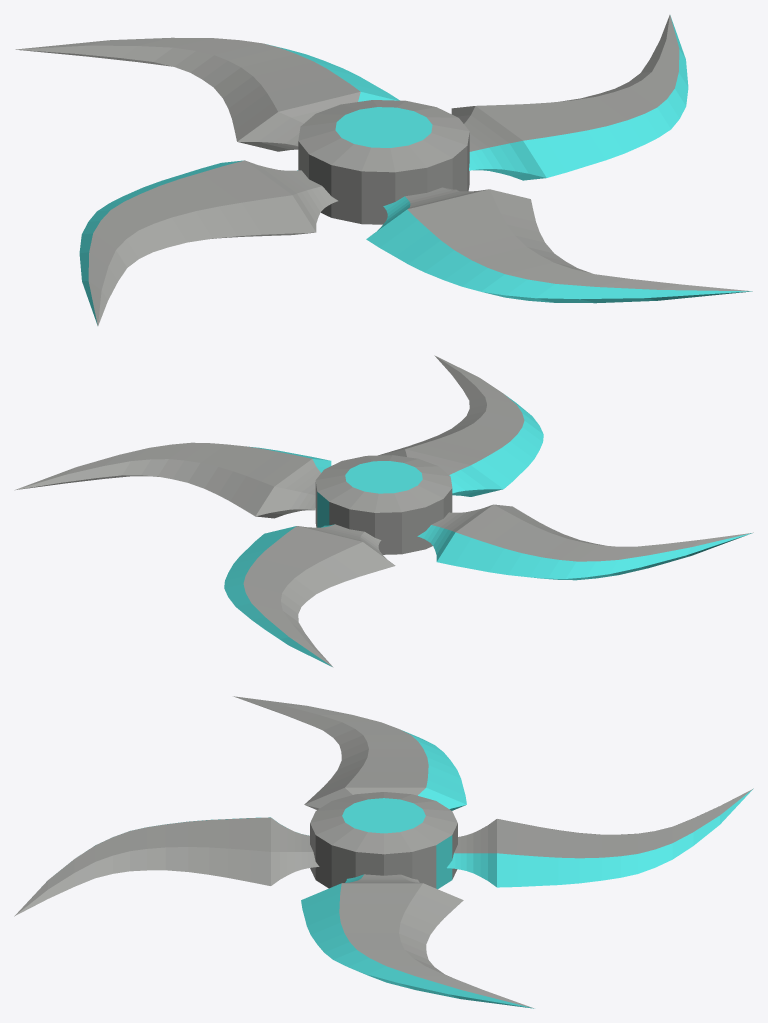
Rendered from Beyblade_Upgraded_Blade_Ice.fbx.
The picture shows the model from 3 angles, top to bottom: view 1: azimuth 30°, elevation 25°; view 2: azimuth 150°, elevation 25°; view 3: azimuth 270°, elevation 25°; orthographic projection. The views are drawn at different scales.
Parts seen in each view (by area): view 1: Circle.001; view 2: Circle.001; view 3: Circle.001.
Part boxes in pixels (x1,y1,x2,y2): Circle.001: (15, 15, 752, 325); Circle.001: (14, 355, 753, 667); Circle.001: (14, 696, 753, 1008).
Size of the model in its own units: 394 by 35.77 by 394.
Materials: 1 (1 with a texture image).
